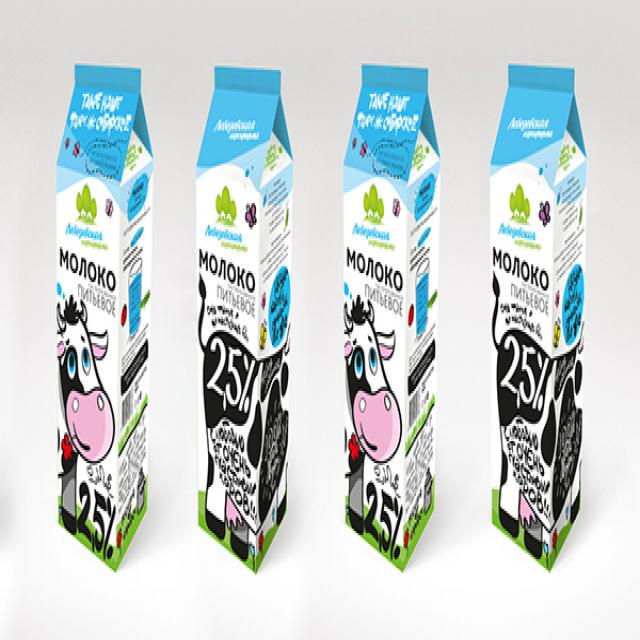non_white_jug: (42, 58, 152, 582), (481, 54, 584, 574), (195, 63, 294, 579), (341, 42, 440, 556)
